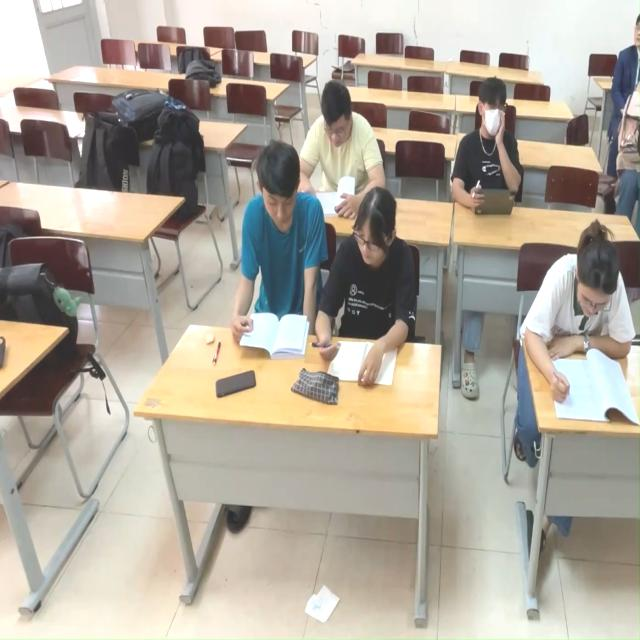read: (520, 214, 640, 422), (314, 185, 422, 389), (230, 139, 328, 361), (449, 70, 528, 226)
